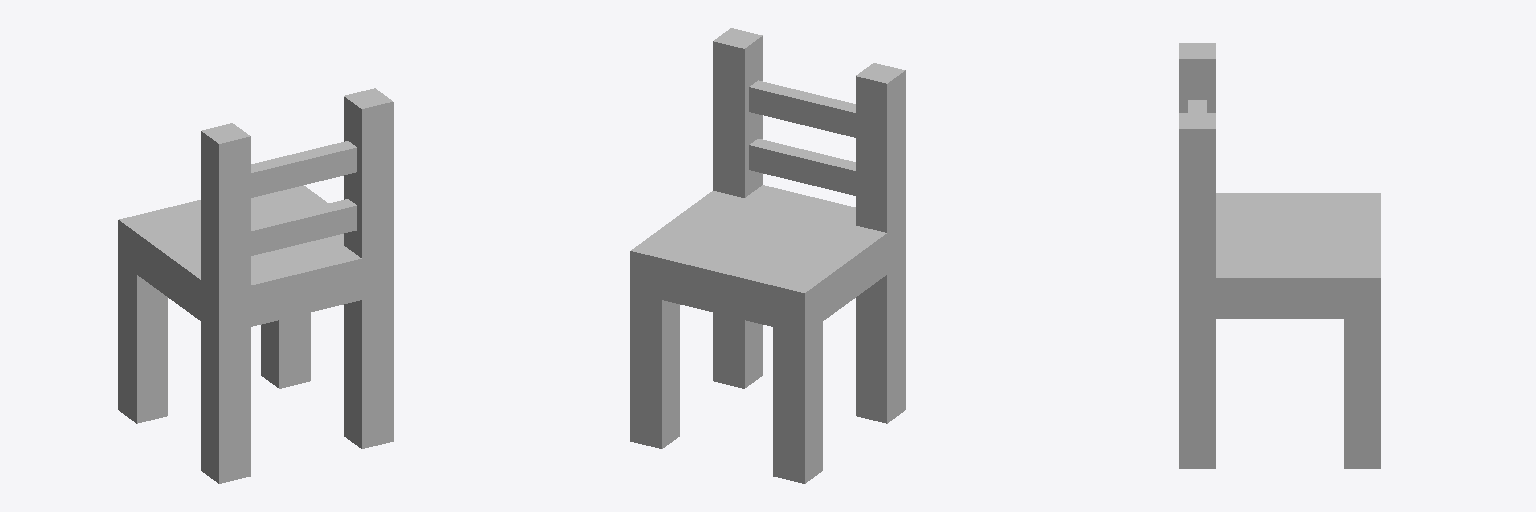
The model's file is chair.obj.
3 renders of one model, left to right at view 1: azimuth 30°, elevation 25°; view 2: azimuth 150°, elevation 25°; view 3: azimuth 270°, elevation 25°, orthographic.
Visible parts, largest first — view 1: object 1; view 2: object 1; view 3: object 1.
Part boxes in pixels (x1,y1,x2,y2): object 1: (118,88,393,483); object 1: (630,28,905,483); object 1: (1179,43,1380,468).
Bounding box in the file's own units: 2.2 × 4.1 × 2.2.